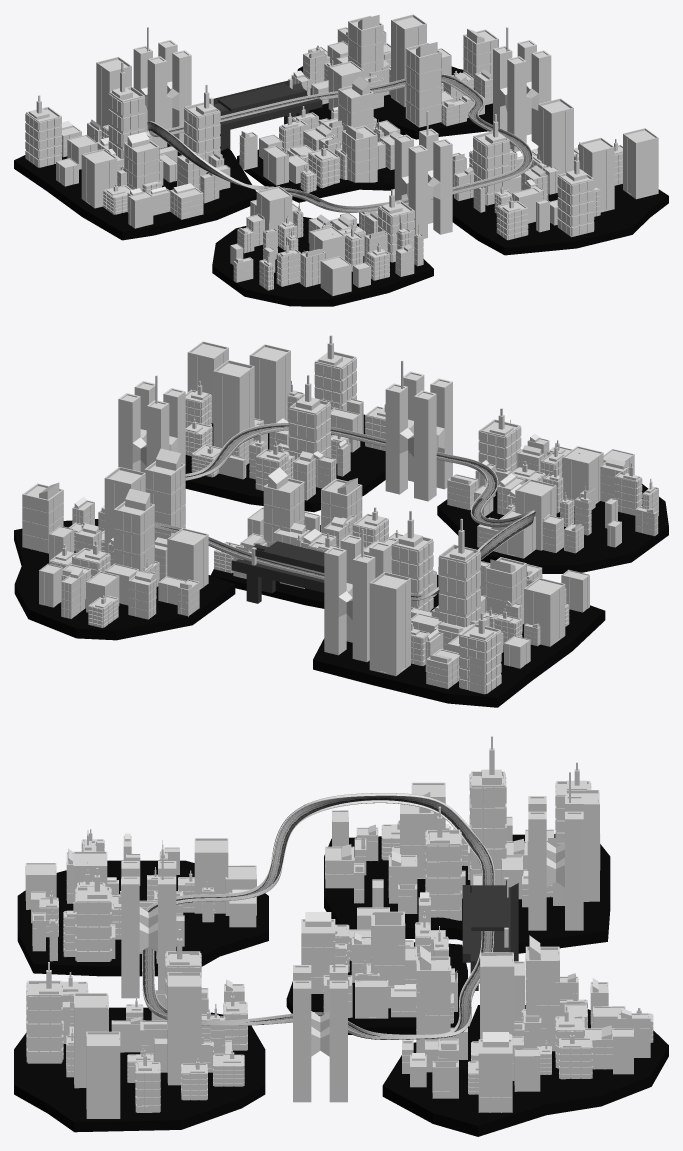
The model's file is FBX_CitymapRoad_V2.fbx.
The picture shows the model from 3 angles, top to bottom: view 1: azimuth 30°, elevation 25°; view 2: azimuth 150°, elevation 25°; view 3: azimuth 270°, elevation 25°; orthographic projection. The views are drawn at different scales.
Visible parts, largest first — view 1: City, Islands, Tower, Tower2, Tower3, StartLine, Plane, TrackWalls; view 2: City, Islands, Tower, Tower3, Tower2, StartLine, TrackWalls, Plane; view 3: City, Islands, Tower2, Tower3, Plane, Tower, TrackWalls, StartLine.
Part boxes in pixels (bbox=[...]): City: bbox=[25, 14, 658, 296]; Islands: bbox=[14, 66, 668, 306]; Tower: bbox=[394, 111, 452, 238]; Tower2: bbox=[493, 27, 551, 151]; Tower3: bbox=[133, 27, 191, 148]; StartLine: bbox=[209, 78, 322, 150]; Plane: bbox=[147, 76, 532, 212]; TrackWalls: bbox=[148, 74, 532, 212]; City: bbox=[22, 335, 658, 694]; Islands: bbox=[14, 414, 668, 707]; Tower: bbox=[385, 360, 452, 501]; Tower3: bbox=[324, 529, 391, 662]; Tower2: bbox=[118, 375, 185, 472]; StartLine: bbox=[231, 541, 324, 603]; TrackWalls: bbox=[155, 422, 535, 600]; Plane: bbox=[155, 425, 535, 600]; City: bbox=[25, 736, 653, 1118]; Islands: bbox=[14, 834, 668, 1136]; Tower2: bbox=[293, 941, 347, 1102]; Tower3: bbox=[528, 772, 583, 930]; Plane: bbox=[142, 793, 493, 1039]; Tower: bbox=[121, 848, 176, 998]; TrackWalls: bbox=[142, 793, 494, 1039]; StartLine: bbox=[462, 877, 518, 990].
Bounding box in the file's own units: 1225 × 299 × 1160.
